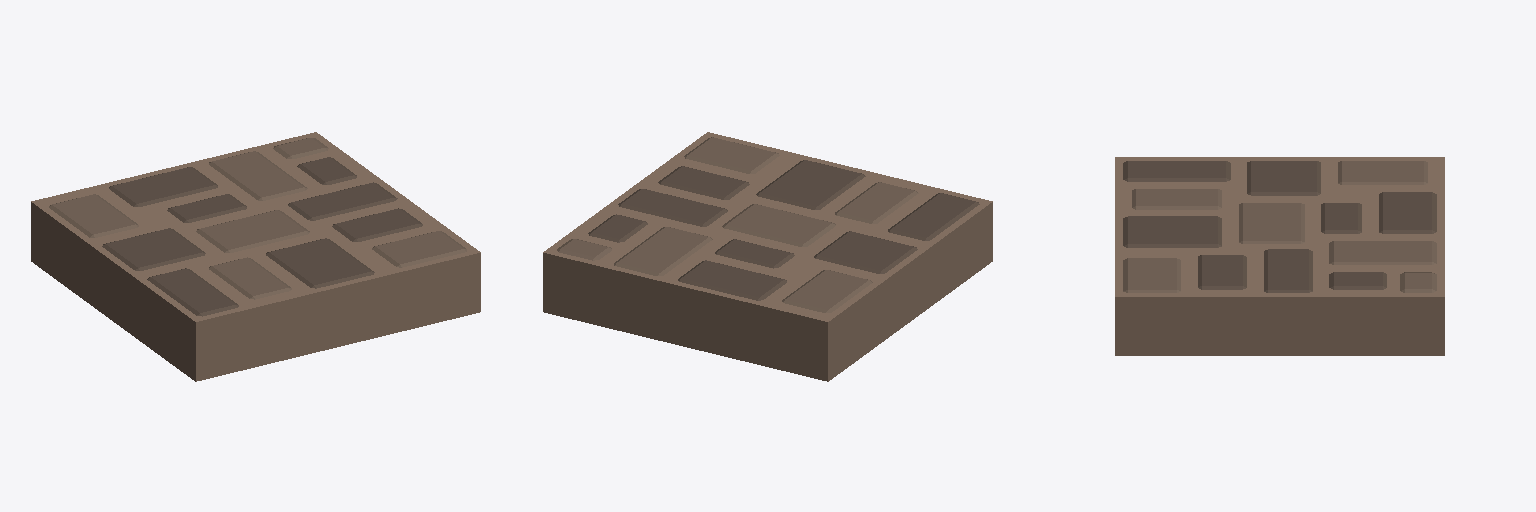
The model's file is Stone_Floor_1.obj.
3 renders of one model, left to right at view 1: azimuth 30°, elevation 25°; view 2: azimuth 150°, elevation 25°; view 3: azimuth 270°, elevation 25°, orthographic.
Parts seen in each view (by area): view 1: object1; view 2: object1; view 3: object1.
Part boxes in pixels (x1,y1,x2,y2): object1: (31, 132, 480, 381); object1: (543, 132, 992, 381); object1: (1115, 157, 1444, 355).
Size of the model in its own units: 1 by 0.2062 by 1.